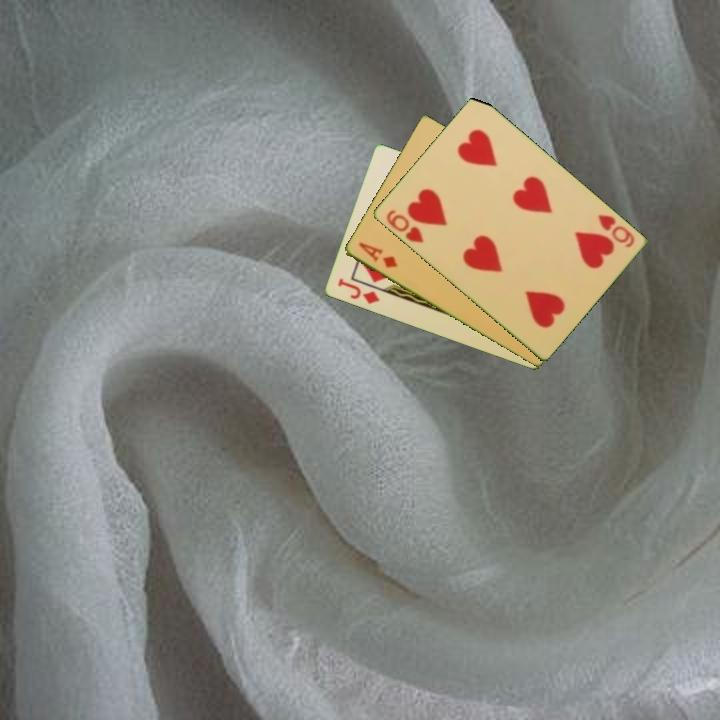6h: (382, 206, 426, 246), (594, 211, 637, 251)
Ad: (355, 239, 400, 271)
Jd: (334, 275, 382, 307)
